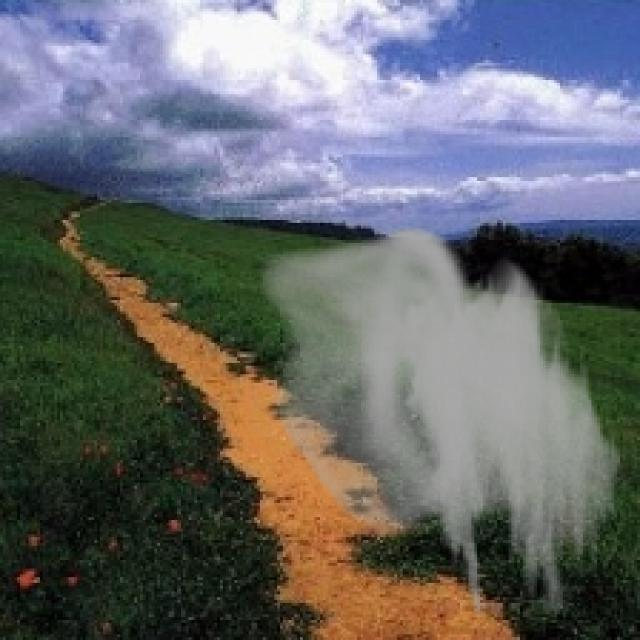Smoke: (260, 226, 626, 614)
